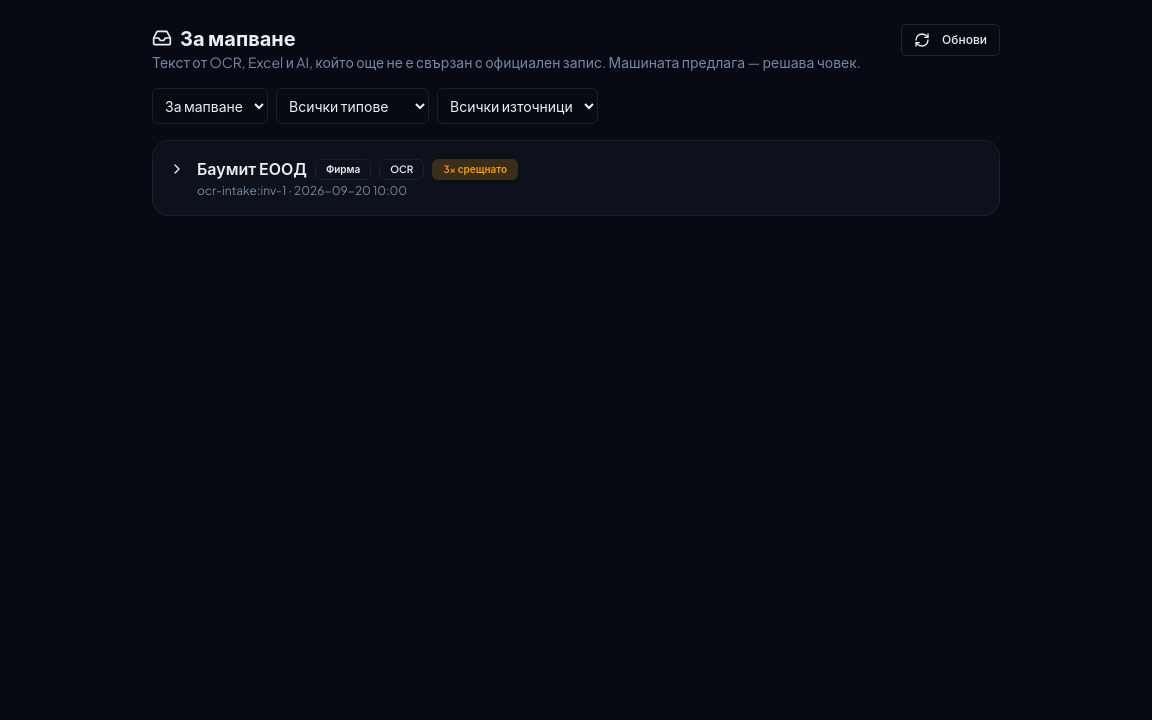
Test case: a new official record cannot be created without an explicit confirmation
Later steps or results of the test are not shown.
Click the button with test id "md-expand-p-1".
click(252, 168)  # box [153,141,999,215]
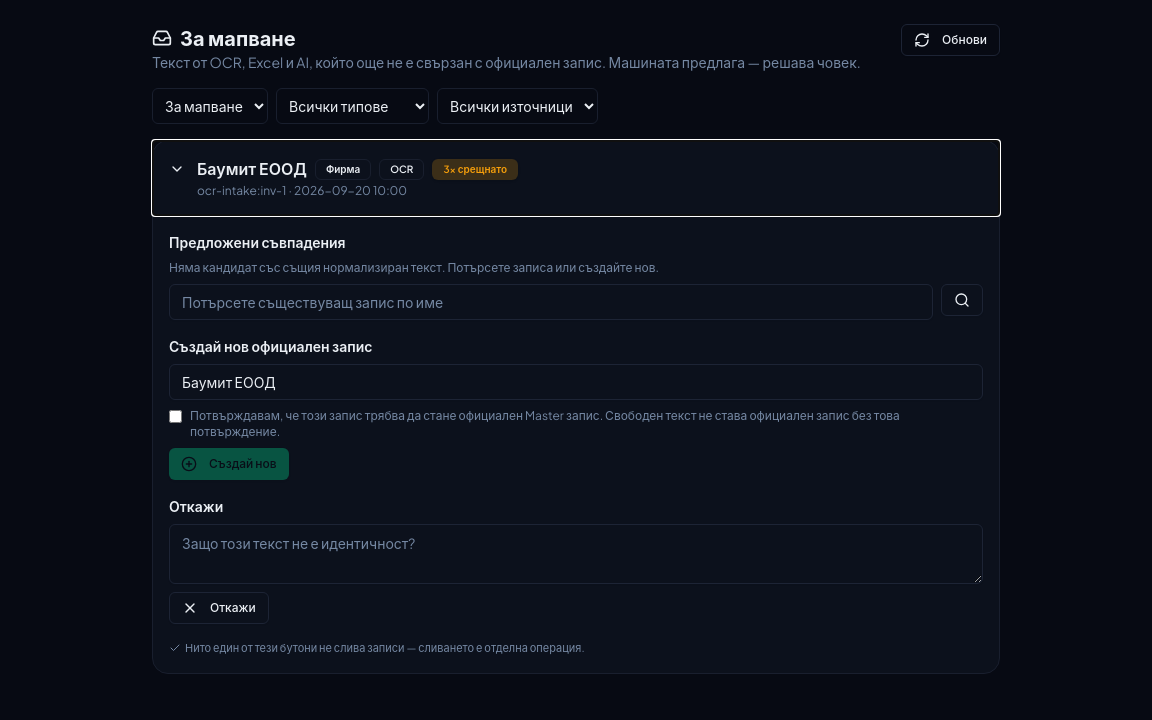
expect the button with test id "md-create-btn" is disabled: met, box [169,448,289,480]
Click the checkbox with test id "md-create-confirm".
click(176, 416)  # box [169,410,182,423]
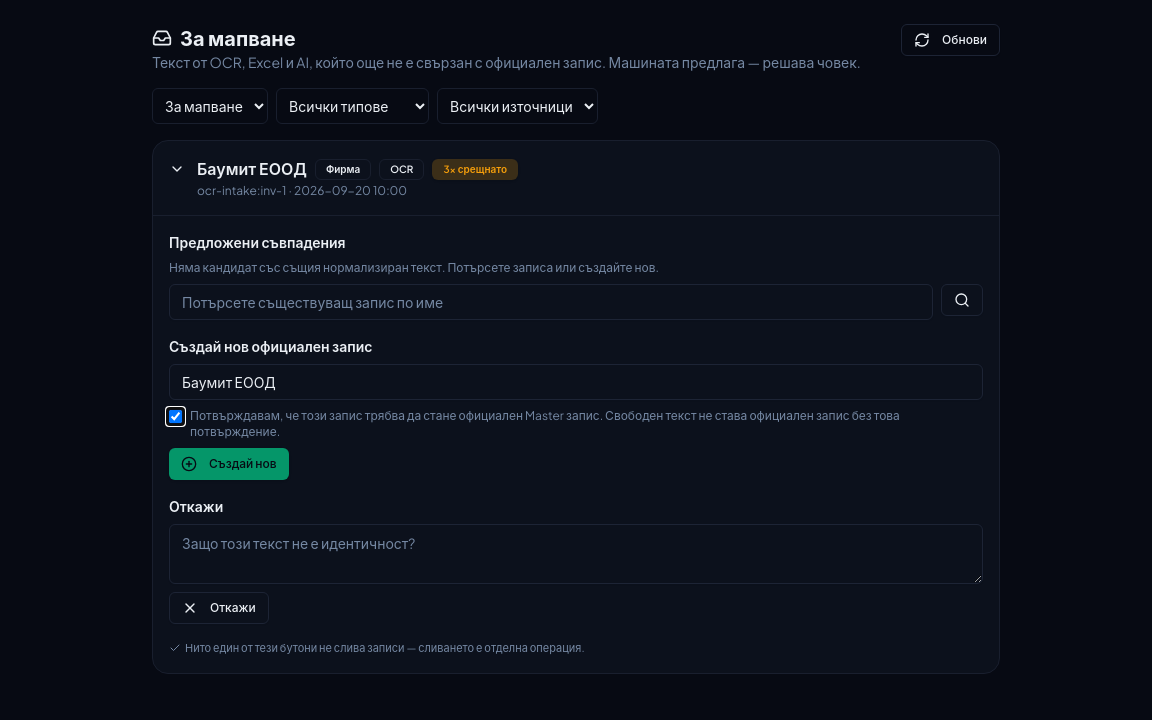
expect the button with test id "md-create-btn" is enabled: met, box [169,448,289,480]
